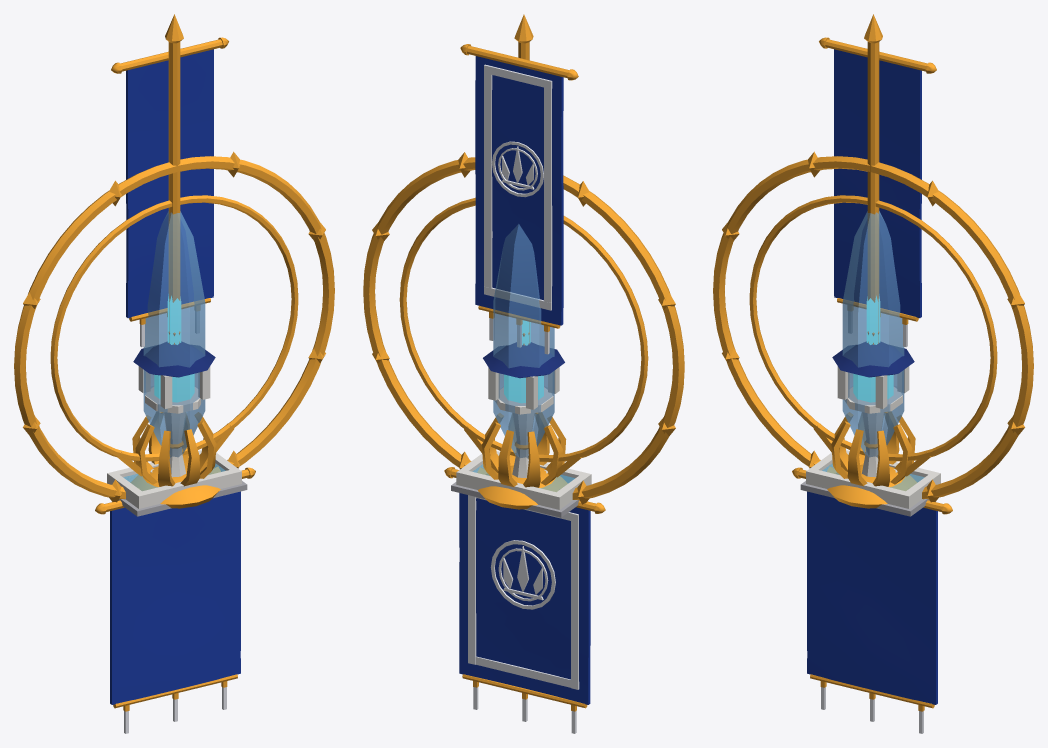
The model's file is Orthodox_Props.fbx.
3 views of the same model, side by side, from view 1: azimuth 30°, elevation 25°; view 2: azimuth 150°, elevation 25°; view 3: azimuth 330°, elevation 25° (orthographic).
Visible parts, largest first — view 1: Orthodox_Banner__SilkBlue, Orthodox_Spire__Gold, Orthodox_Flag__SilkBlue, Orthodox_Spire__Crystal, Orthodox_Flag__Gold, Orthodox_Lantern__Marble, Orthodox_Basin__Marble, Orthodox_Lantern__Tile, Orthodox_Banner__Gold, Orthodox_Lantern__AzureGlow, Orthodox_Spire__AzureGlow, Orthodox_Basin__Granite; view 2: Orthodox_Spire__Gold, Orthodox_Banner__SilkBlue, Orthodox_Flag__SilkBlue, Orthodox_Spire__Crystal, Orthodox_Flag__SilkWhite, Orthodox_Banner__SilkWhite, Orthodox_Lantern__Marble, Orthodox_Basin__Marble, Orthodox_Flag__Gold, Orthodox_Lantern__Tile, Orthodox_Banner__Gold, Orthodox_Lantern__AzureGlow (+1 smaller); view 3: Orthodox_Banner__SilkBlue, Orthodox_Spire__Gold, Orthodox_Flag__SilkBlue, Orthodox_Spire__Crystal, Orthodox_Flag__Gold, Orthodox_Lantern__Marble, Orthodox_Basin__Marble, Orthodox_Lantern__Tile, Orthodox_Banner__Gold, Orthodox_Lantern__AzureGlow, Orthodox_Spire__AzureGlow, Orthodox_Basin__Granite.
Boxes of the visible parts, box(x1,y1,x2,y2) form: Orthodox_Banner__SilkBlue: box(110, 491, 240, 704); Orthodox_Spire__Gold: box(14, 151, 334, 508); Orthodox_Flag__SilkBlue: box(126, 49, 213, 318); Orthodox_Spire__Crystal: box(143, 210, 205, 457); Orthodox_Flag__Gold: box(111, 14, 228, 340); Orthodox_Lantern__Marble: box(138, 366, 210, 477); Orthodox_Basin__Marble: box(107, 450, 241, 508); Orthodox_Lantern__Tile: box(133, 341, 215, 377); Orthodox_Banner__Gold: box(95, 467, 255, 711); Orthodox_Lantern__AzureGlow: box(154, 374, 194, 402); Orthodox_Spire__AzureGlow: box(167, 294, 181, 344); Orthodox_Basin__Granite: box(118, 481, 247, 516); Orthodox_Spire__Gold: box(363, 152, 684, 509); Orthodox_Banner__SilkBlue: box(459, 493, 590, 704); Orthodox_Flag__SilkBlue: box(475, 56, 563, 325); Orthodox_Spire__Crystal: box(493, 224, 554, 458); Orthodox_Flag__SilkWhite: box(484, 64, 552, 354); Orthodox_Banner__SilkWhite: box(468, 495, 579, 733); Orthodox_Lantern__Marble: box(488, 367, 559, 477); Orthodox_Basin__Marble: box(456, 451, 591, 509); Orthodox_Flag__Gold: box(460, 14, 578, 341); Orthodox_Lantern__Tile: box(483, 342, 564, 378); Orthodox_Banner__Gold: box(444, 467, 605, 711); Orthodox_Lantern__AzureGlow: box(504, 374, 543, 403); Orthodox_Banner__SilkBlue: box(807, 491, 937, 704); Orthodox_Spire__Gold: box(713, 151, 1033, 508); Orthodox_Flag__SilkBlue: box(834, 49, 921, 318); Orthodox_Spire__Crystal: box(842, 210, 904, 457); Orthodox_Flag__Gold: box(819, 14, 936, 340); Orthodox_Lantern__Marble: box(837, 366, 909, 477); Orthodox_Basin__Marble: box(806, 450, 940, 508); Orthodox_Lantern__Tile: box(832, 341, 914, 377); Orthodox_Banner__Gold: box(792, 467, 952, 711); Orthodox_Lantern__AzureGlow: box(853, 374, 893, 402); Orthodox_Spire__AzureGlow: box(866, 294, 880, 344); Orthodox_Basin__Granite: box(800, 481, 929, 516).
Size of the model in its own units: 18.68 by 39.3 by 4.8.
